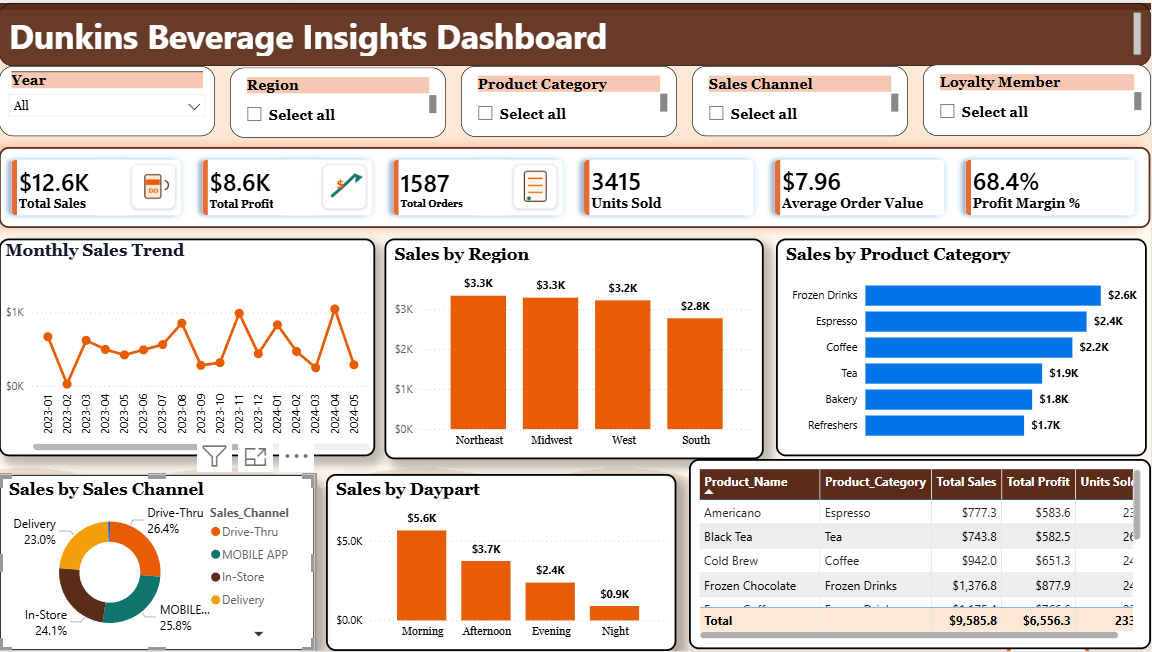

What the dashboard file says about the page in this screenshot:
{"tool":"powerbi","page":{"name":"DB_Dashboard","canvas":[1280,720],"ordinal":0},"visuals":[{"type":"textbox","box":[0,0,1279.5,69.7],"z":0},{"type":"cardVisual","fields":{"Data":["BeverageSales.Total Sales","BeverageSales.Total Profit","BeverageSales.Total Orders","BeverageSales.Units Sold","BeverageSales.Average Order Value","BeverageSales.Profit Margin %"]},"box":[0,159.9,1279.5,90.3],"z":2000},{"type":"lineChart","title":"Monthly Sales Trend","fields":{"Category":["DATE.Year Month"],"Y":["BeverageSales.Total Sales"]},"box":[0,261.3,418,242.3],"z":3000},{"type":"clusteredBarChart","title":"Sales by Product Category","fields":{"Category":["BeverageSales.Product_Category"],"Y":["BeverageSales.Total Sales"]},"box":[863,261.3,412,242],"z":4000},{"type":"clusteredColumnChart","title":"Sales by Region","fields":{"Category":["BeverageSales.Region"],"Y":["BeverageSales.Total Sales"]},"box":[429.1,261.3,421.2,245.4],"z":5000},{"type":"donutChart","title":"Sales by Sales Channel","fields":{"Category":["BeverageSales.Sales_Channel"],"Y":["BeverageSales.Total Sales"]},"box":[0,524.1,351.5,196.4],"z":6000},{"type":"columnChart","title":"Sales by Daypart","fields":{"Category":["BeverageSales.Daypart"],"Y":["BeverageSales.Total Sales"]},"box":[362.6,524.1,389.5,196.4],"z":7000},{"type":"tableEx","fields":{"Values":["BeverageSales.Product_Name","BeverageSales.Product_Category","BeverageSales.Total Sales","BeverageSales.Total Profit","BeverageSales.Units Sold"]},"box":[766.4,506.7,513,211],"z":8000},{"type":"slicer","fields":{"Values":["DATE.Year"]},"box":[0,70.5,240,78],"z":9000},{"type":"slicer","fields":{"Values":["BeverageSales.Region"]},"box":[256.5,71.3,240,78],"z":10000},{"type":"slicer","fields":{"Values":["BeverageSales.Product_Category"]},"box":[513.1,70.5,240,78.5],"z":11000},{"type":"slicer","fields":{"Values":["BeverageSales.Sales_Channel"]},"box":[769.6,70.5,240,78],"z":12000},{"type":"slicer","fields":{"Values":["BeverageSales.Loyalty_Member"]},"box":[1026.1,68.1,253.4,79.2],"z":13000}]}

Visuals, with their boxes in screenshot pixels (x1, y1, x2, y2), scaled from the page's 1280x720 canvas onto the 1152x652 screenshot:
textbox: BBox(0, 0, 1151, 63)
cardVisual - BeverageSales.Total Sales x BeverageSales.Total Profit: BBox(0, 145, 1151, 227)
"Monthly Sales Trend" lineChart: BBox(0, 237, 376, 456)
"Sales by Product Category" clusteredBarChart: BBox(777, 237, 1148, 456)
"Sales by Region" clusteredColumnChart: BBox(386, 237, 765, 459)
"Sales by Sales Channel" donutChart: BBox(0, 475, 316, 651)
"Sales by Daypart" columnChart: BBox(326, 475, 677, 651)
tableEx - BeverageSales.Product_Name x BeverageSales.Product_Category: BBox(690, 459, 1151, 650)
slicer - DATE.Year: BBox(0, 64, 216, 134)
slicer - BeverageSales.Region: BBox(231, 65, 447, 135)
slicer - BeverageSales.Product_Category: BBox(462, 64, 678, 135)
slicer - BeverageSales.Sales_Channel: BBox(693, 64, 909, 134)
slicer - BeverageSales.Loyalty_Member: BBox(923, 62, 1151, 133)
